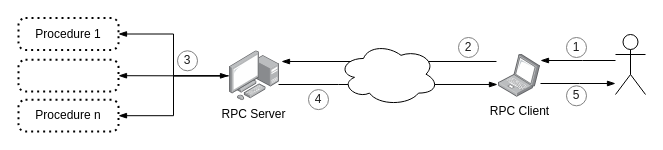
The diagram is 663 pixels wide and 150 high, and some of its shapes have lost their labels. The box of each missing label's shape, as (x1, y1, x2, y2) in pixels:
INTERNET: (338, 42, 438, 106)
Procedure 2: (17, 58, 119, 92)
User: (614, 34, 646, 94)
